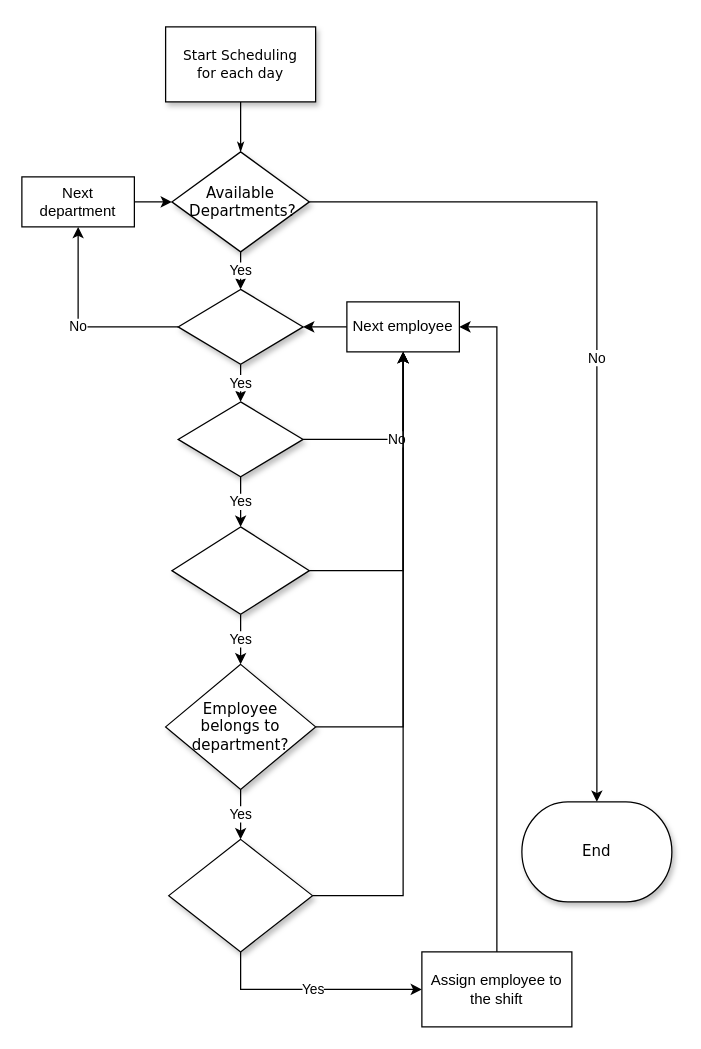
Image size: 701x1049. Some labels were removed from this diagram. Each missing label, with the centre of its shape:
Available employees?: [241,328]
Employee active?: [241,441]
Employee required for shift?: [241,572]
Schedule constraints succeed?: [241,897]
